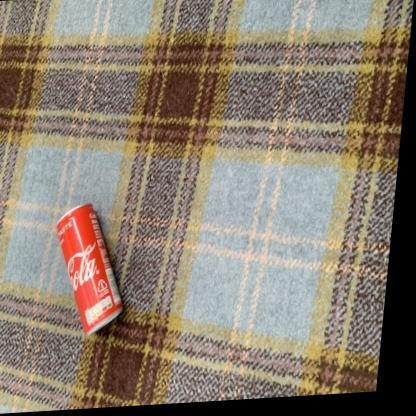trash: (57, 204, 122, 334)
